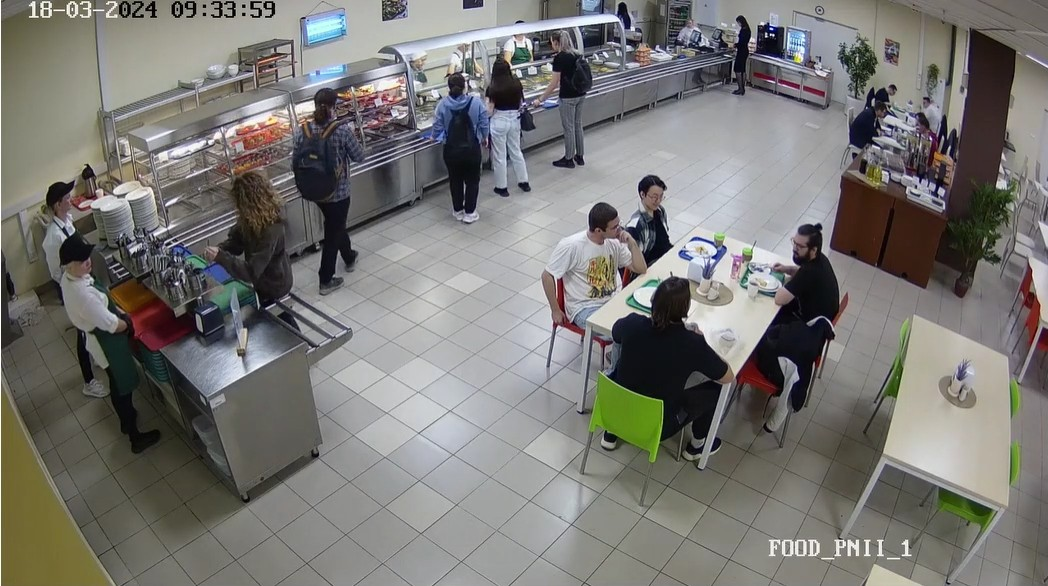Na_Kasse: (731, 13, 753, 98)
Personal: (28, 231, 271, 470), (30, 174, 85, 235), (440, 30, 481, 74), (401, 41, 435, 93), (504, 22, 540, 66), (608, 0, 635, 43), (673, 10, 704, 44)
Vybiraet: (295, 84, 360, 300), (199, 172, 296, 302), (481, 56, 543, 192), (430, 72, 481, 216), (540, 32, 593, 165)
Za_Stolom: (587, 263, 732, 503), (543, 194, 647, 370), (767, 218, 844, 328), (627, 176, 674, 243), (849, 91, 887, 158), (903, 119, 942, 166), (913, 93, 946, 129), (867, 81, 904, 107)
